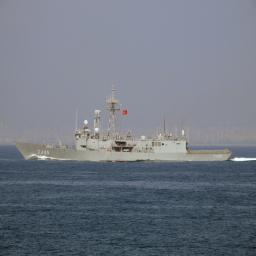Fragata: (14, 85, 233, 164)
